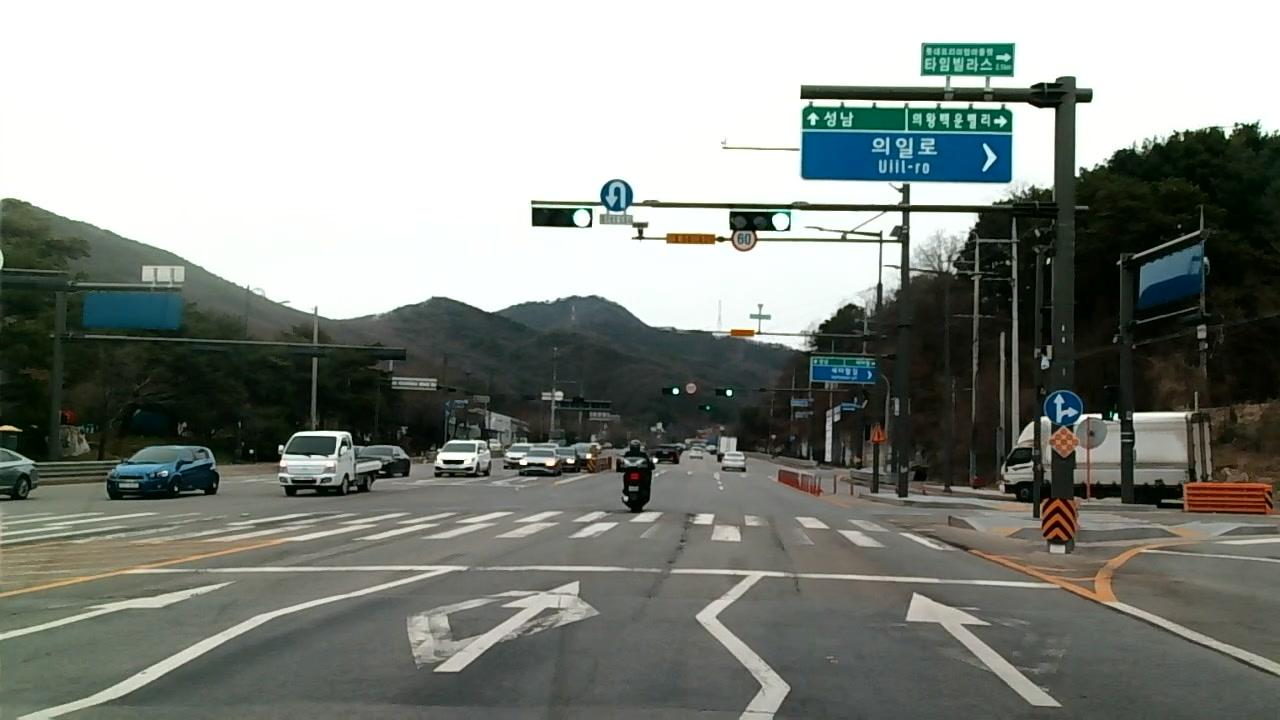banner: (639, 530, 690, 606), (766, 517, 805, 595), (682, 508, 698, 530)
